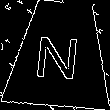N_N: (35, 27, 85, 81)
